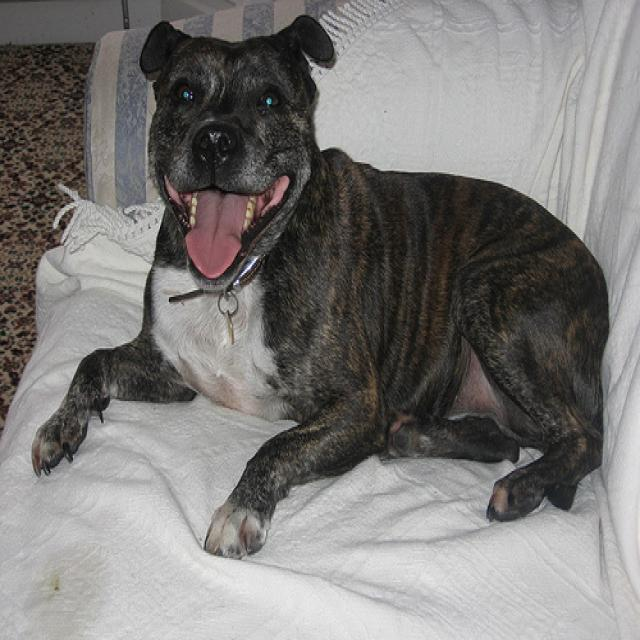dog: (138, 12, 332, 288)
